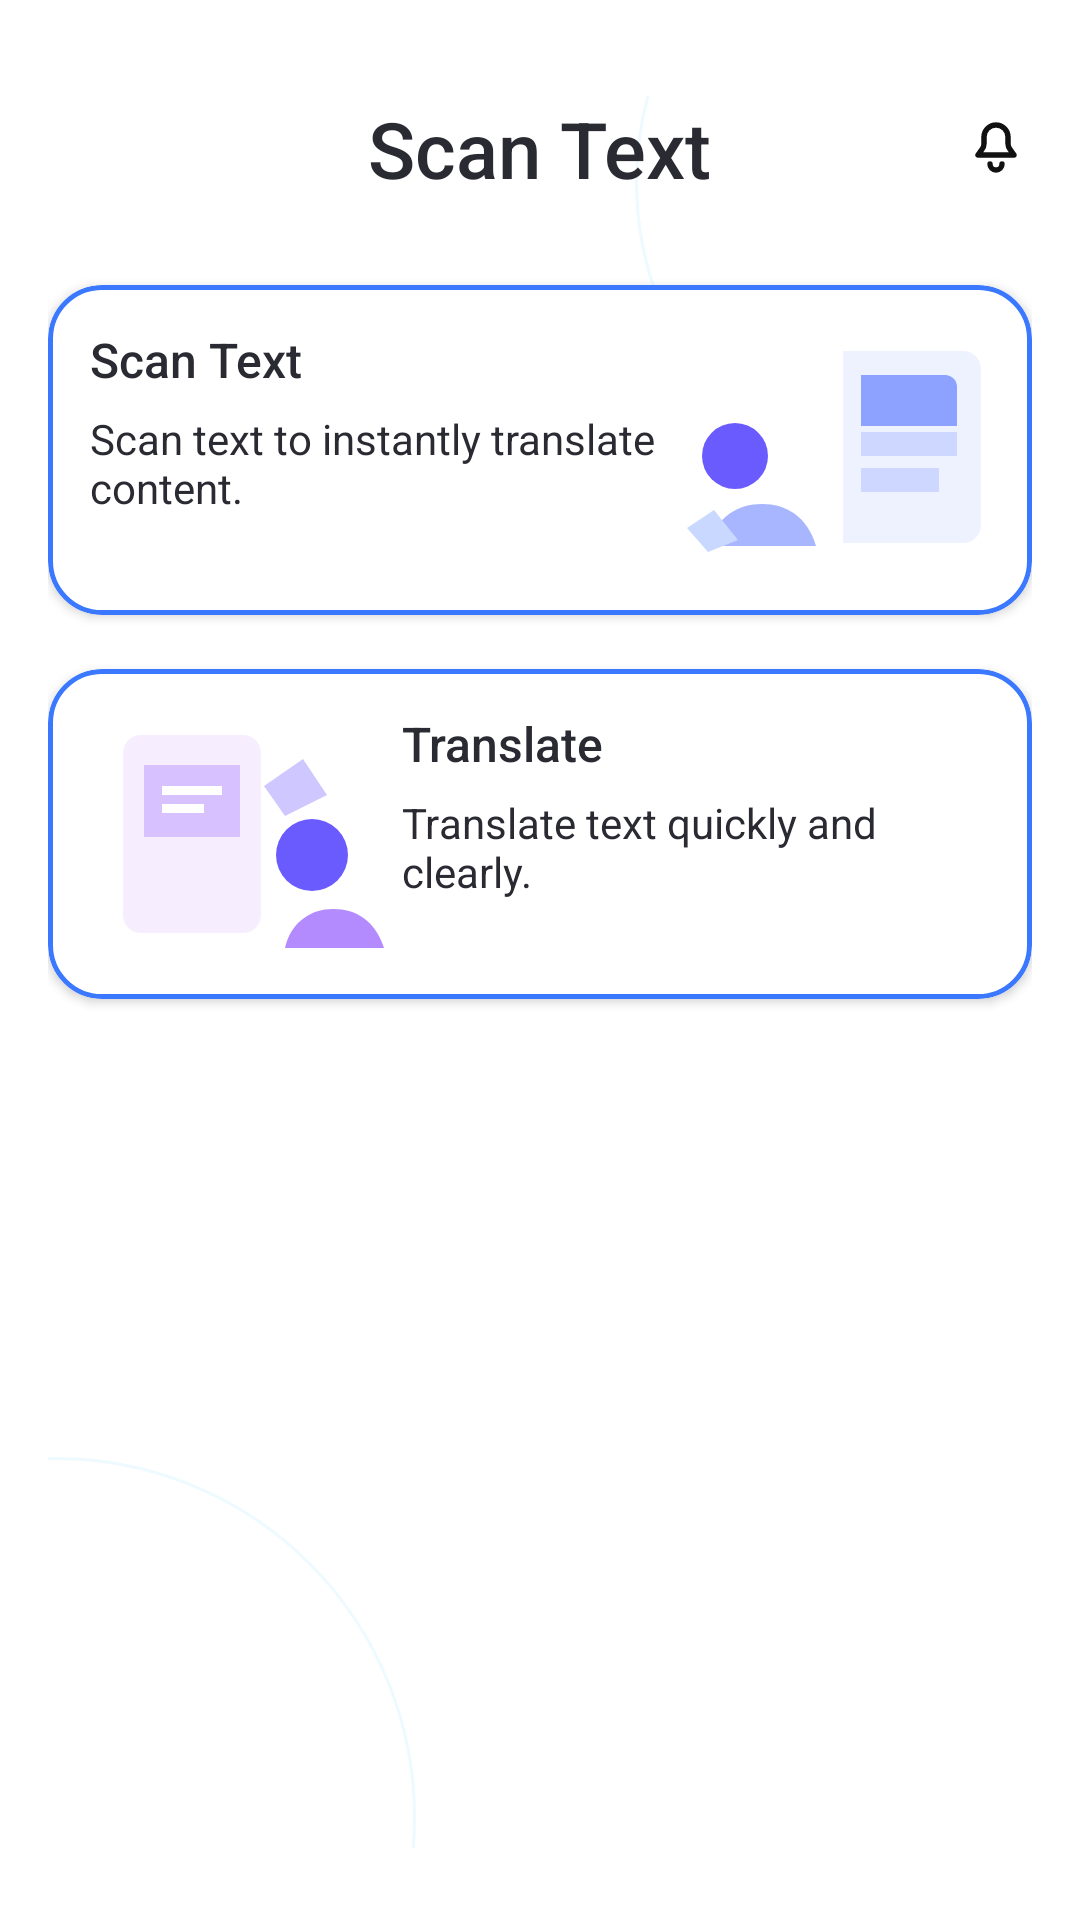

Icons on this 1080 × 1920 Android screen, each with its box as (x1, y1, x2, y2):
home bell: (975, 122, 1017, 173)
